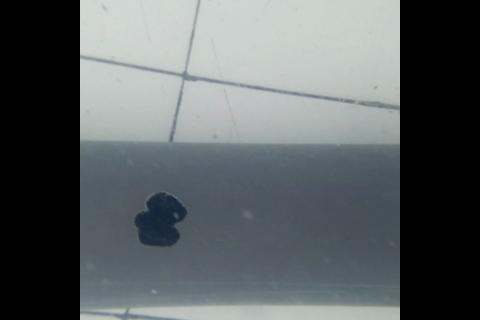kebocoran: (130, 189, 190, 247)
